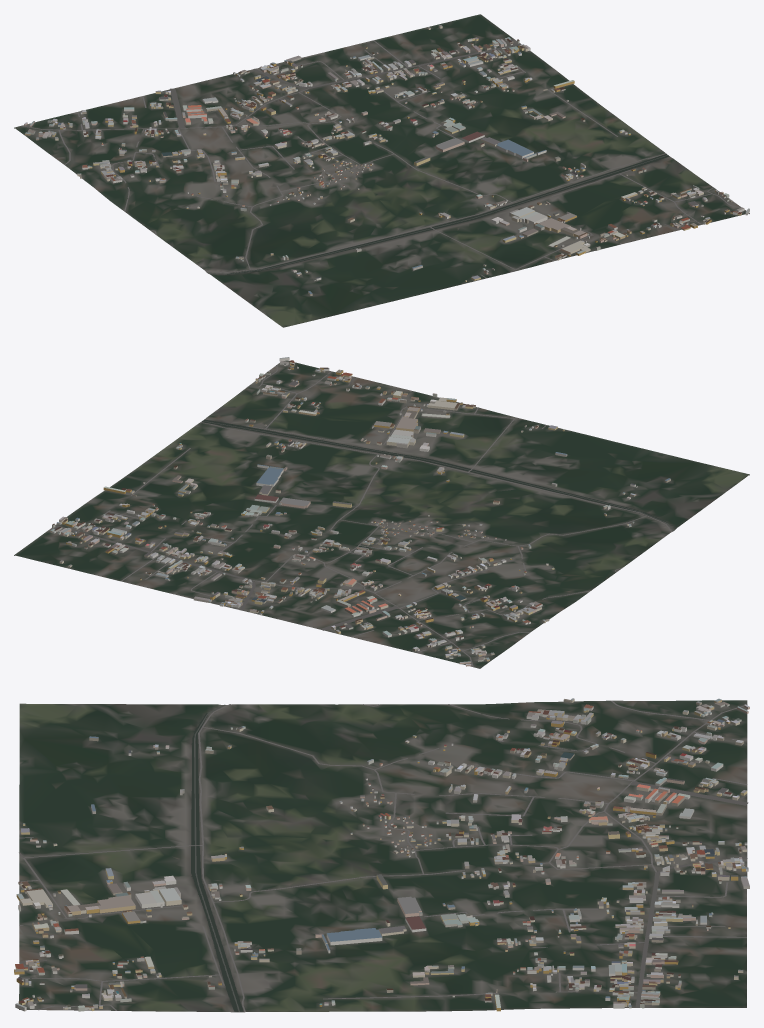
3 renders of one model, top to bottom at view 1: azimuth 30°, elevation 25°; view 2: azimuth 150°, elevation 25°; view 3: azimuth 270°, elevation 25°, orthographic. The views are drawn at different scales.
Parts seen in each view (by area): view 1: ground, buildings, roads, water; view 2: ground, buildings, roads, water; view 3: ground, buildings, roads, water.
Boxes of the visible parts, x1,y1,x2,y2 form: ground: (14,14,749,327); buildings: (24,25,749,295); roads: (21,40,740,278); water: (207,154,669,274); ground: (14,360,749,668); buildings: (50,357,670,666); roads: (55,365,671,666); water: (201,419,673,530); ground: (19,700,747,1012); buildings: (14,698,749,1011); roads: (19,700,748,1011); water: (191,704,243,1011).
Bounding box in the file's own units: 1409 × 22.72 × 1416.
